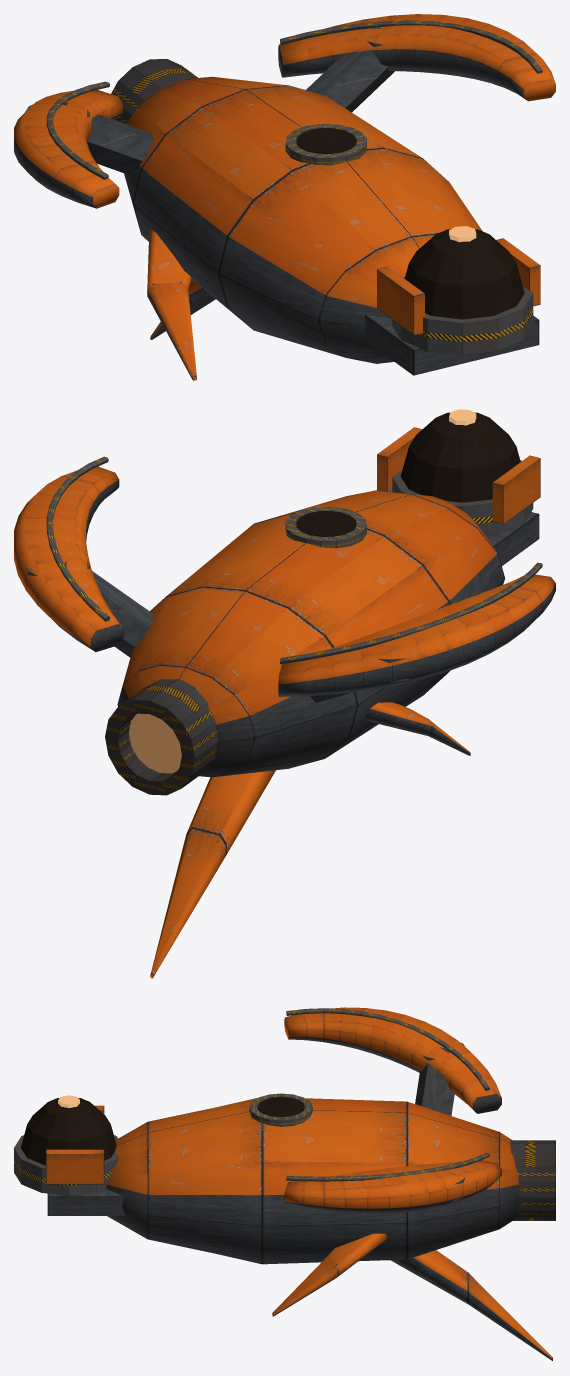
The model's file is pioneer-saturn-l03-shield.glb.
3 renders of one model, top to bottom at view 1: azimuth 30°, elevation 25°; view 2: azimuth 150°, elevation 25°; view 3: azimuth 270°, elevation 25°, orthographic. The views are drawn at different scales.
Visible parts, largest first — view 1: Drone; view 2: Drone; view 3: Drone.
Boxes of the visible parts, x1,y1,x2,y2 form: Drone: (14,14,555,380); Drone: (14,409,555,978); Drone: (14,1007,555,1360).
Bounding box in the file's own units: 1.04 × 0.6961 × 1.28.
Materials: 3 (3 with a texture image).
